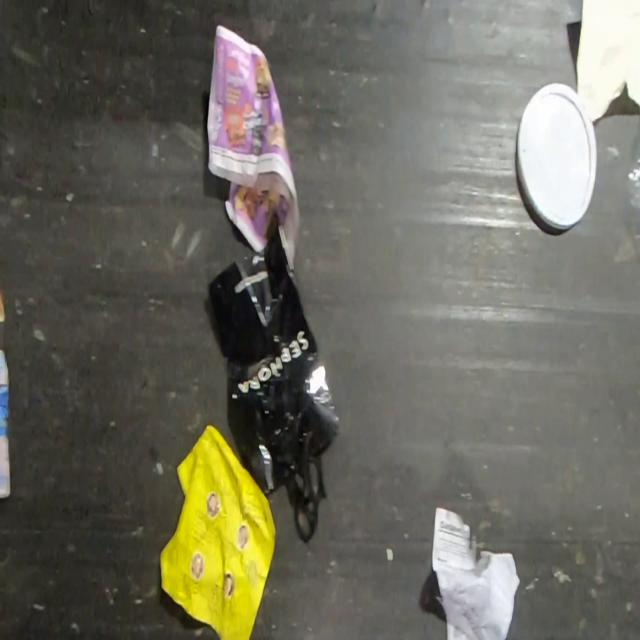rigid_plastic: (516, 82, 598, 231)
soft_plastic: (206, 222, 342, 542)
